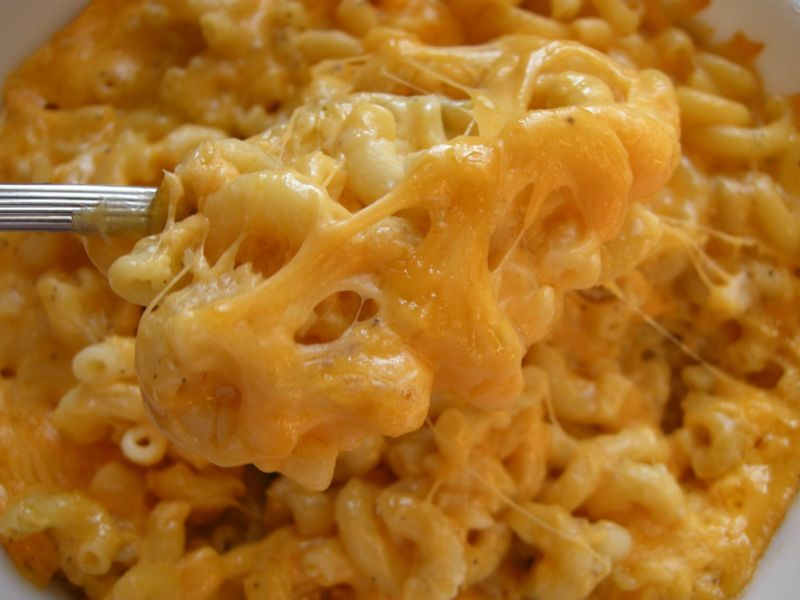macncheese: (145, 65, 709, 543)
